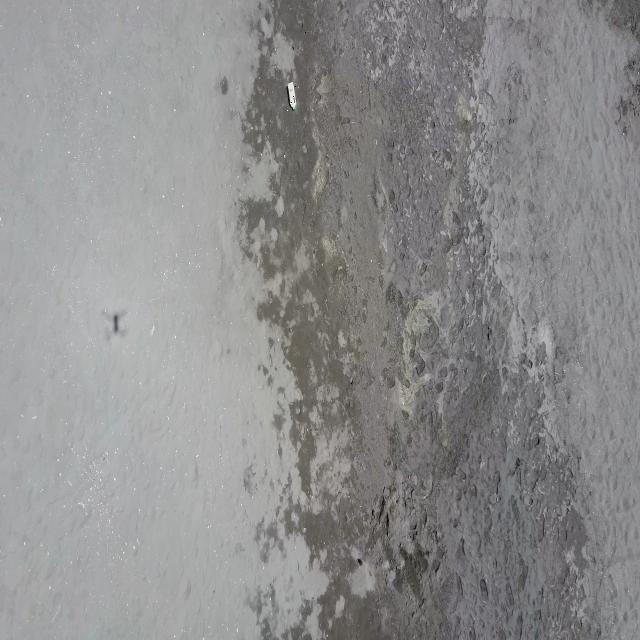plastic-bottle: (286, 83, 296, 111)
